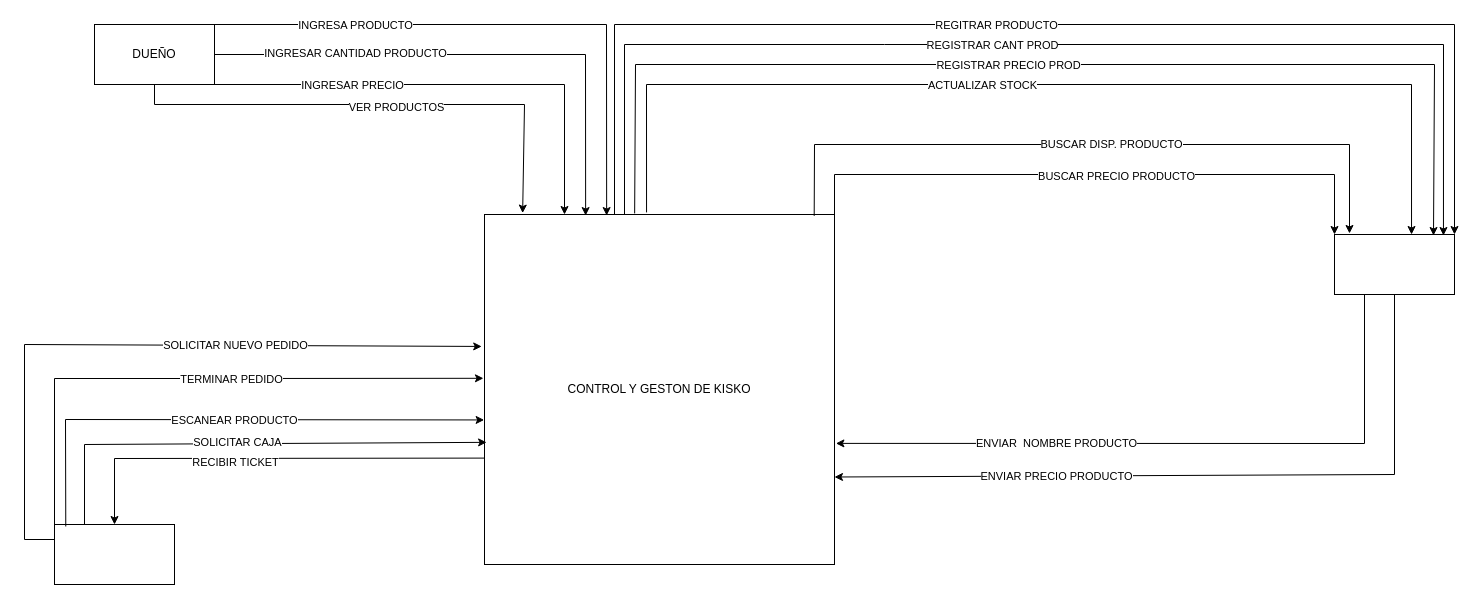
This 1480x602 diagram has some shape labels left out. Each missing label, with the box of its shape:
BDD: (1334, 234, 1454, 294)
EMPLEADO: (54, 524, 174, 584)
